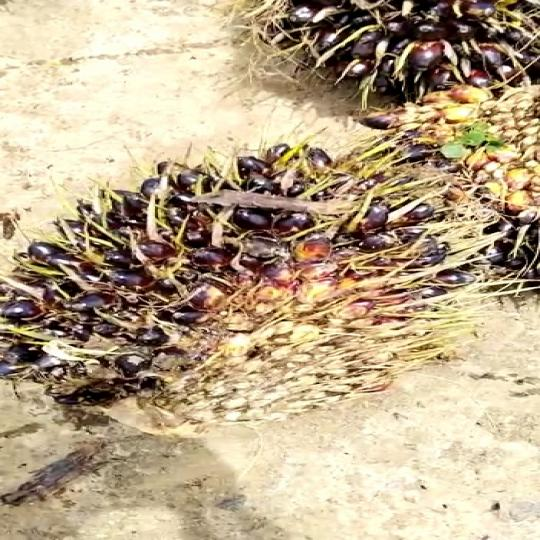mentah: (10, 124, 494, 444)
